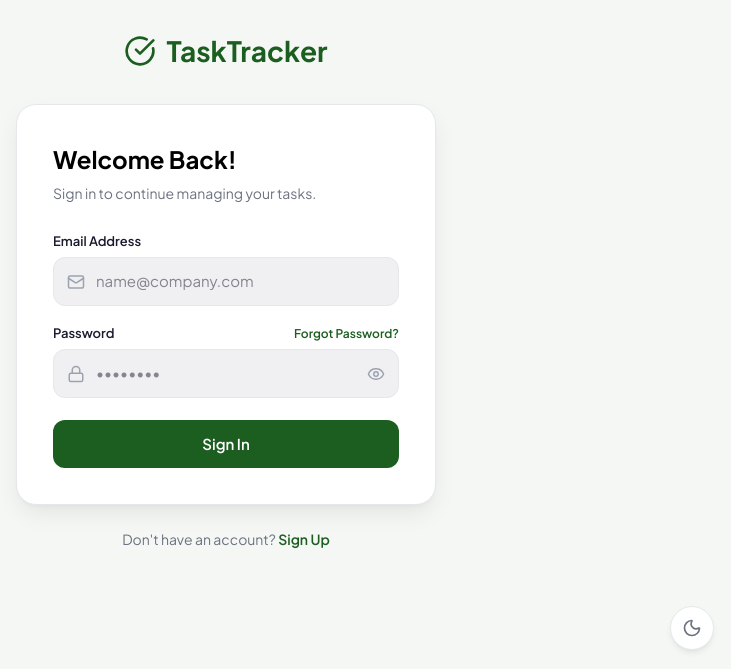
Test: Integration: Login Flow › displays generic error message when API returns no message
This screenshot has width=731, height=669.
Type "test@example.com" into the field labelled "Email Address" at (226, 282), box 53,257 -> 399,306
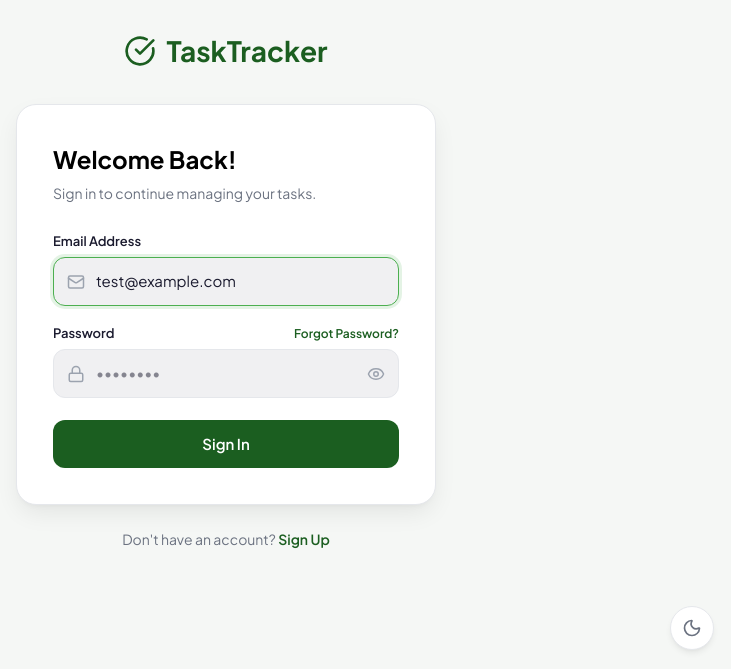
Type "password123" into the password field labelled "Password" at (226, 374), box 53,349 -> 399,398
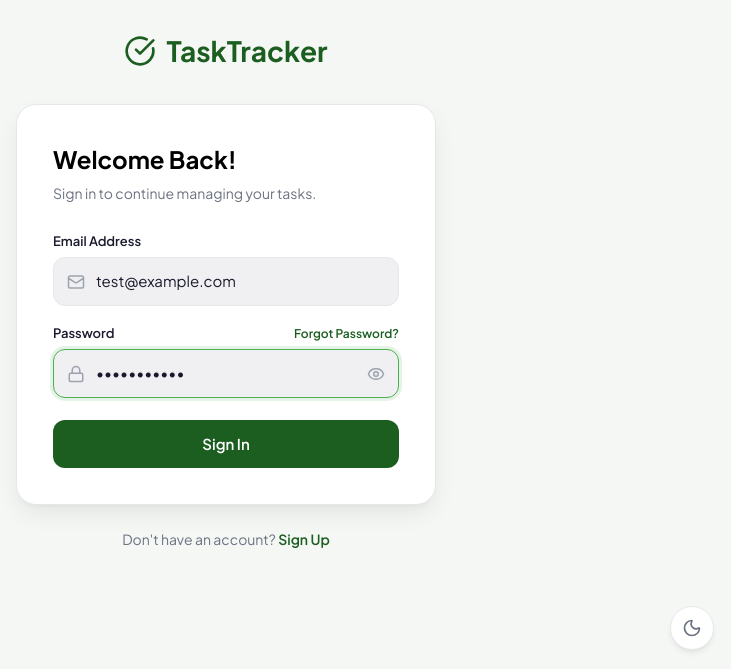
Click the button "Sign In" at (226, 444), box 53,420 -> 399,468
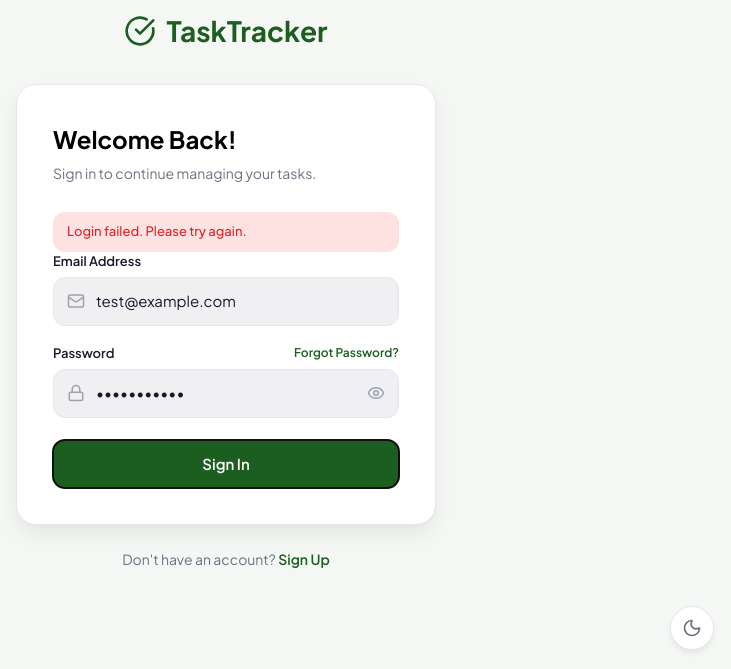
Result: the text "Login failed. Please try again." is shown at 53,212 -> 399,252
